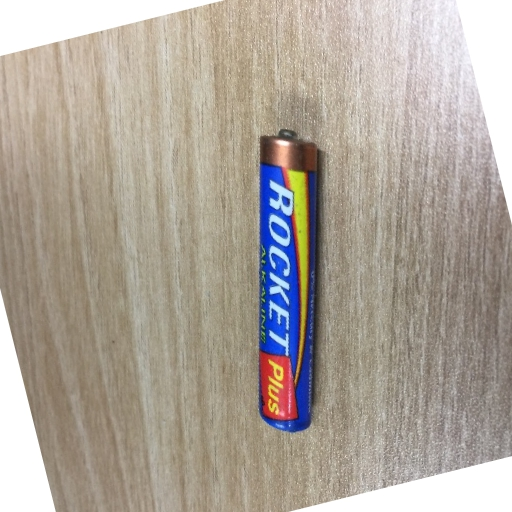Battery_0: (231, 117, 340, 454)
